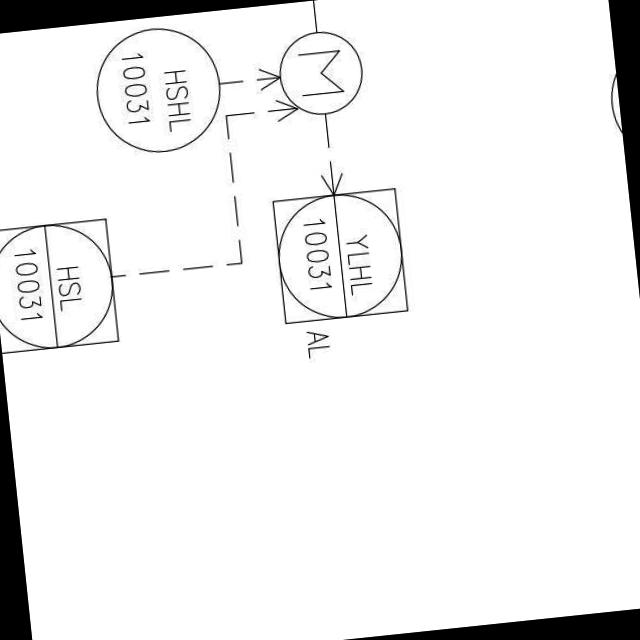M: (269, 23, 372, 119)
